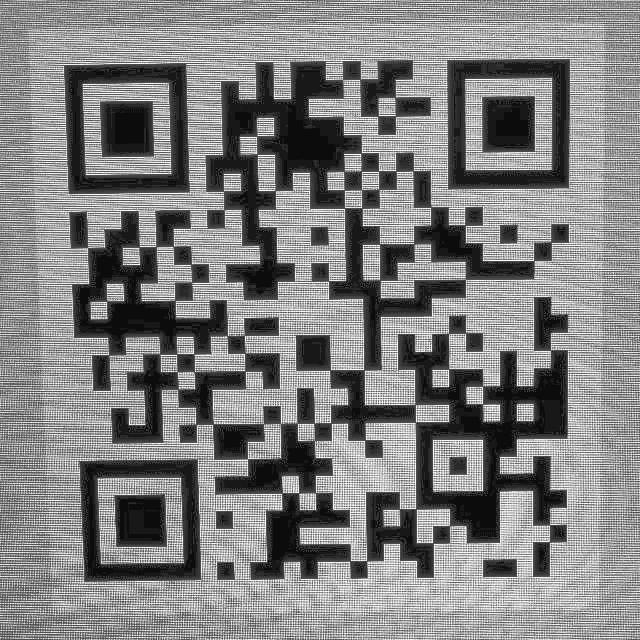qr_code: (39, 35, 610, 600)
